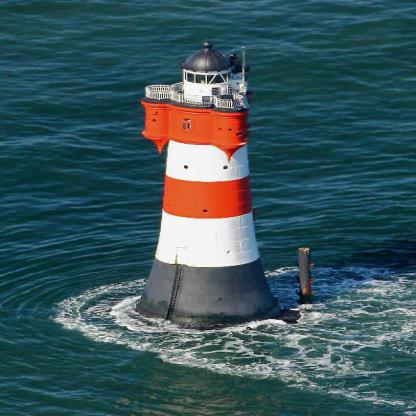lighthouse: (140, 40, 285, 326)
